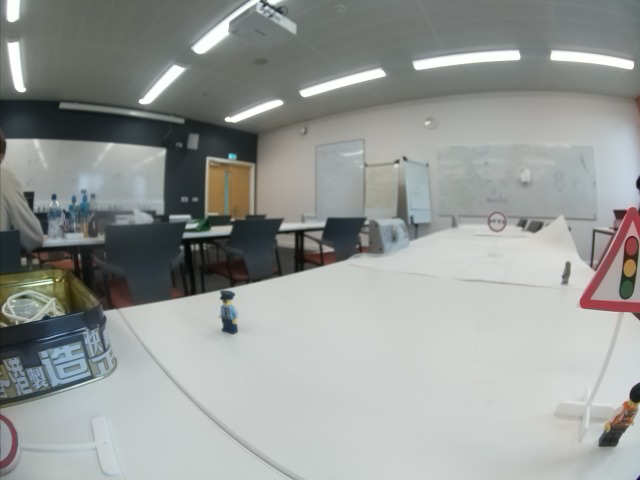6ft6: (487, 211, 507, 232)
Lego Man: (598, 383, 640, 444), (218, 290, 239, 333), (560, 260, 574, 285)
Traffic lights: (579, 208, 640, 307)
